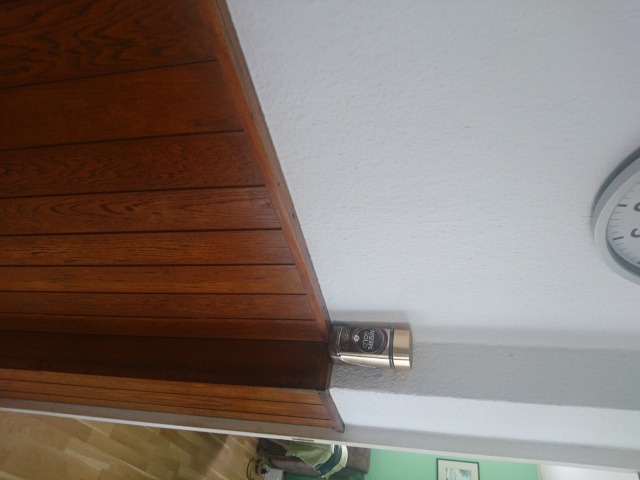Nescafe Gold 225g: (324, 322, 415, 373)
